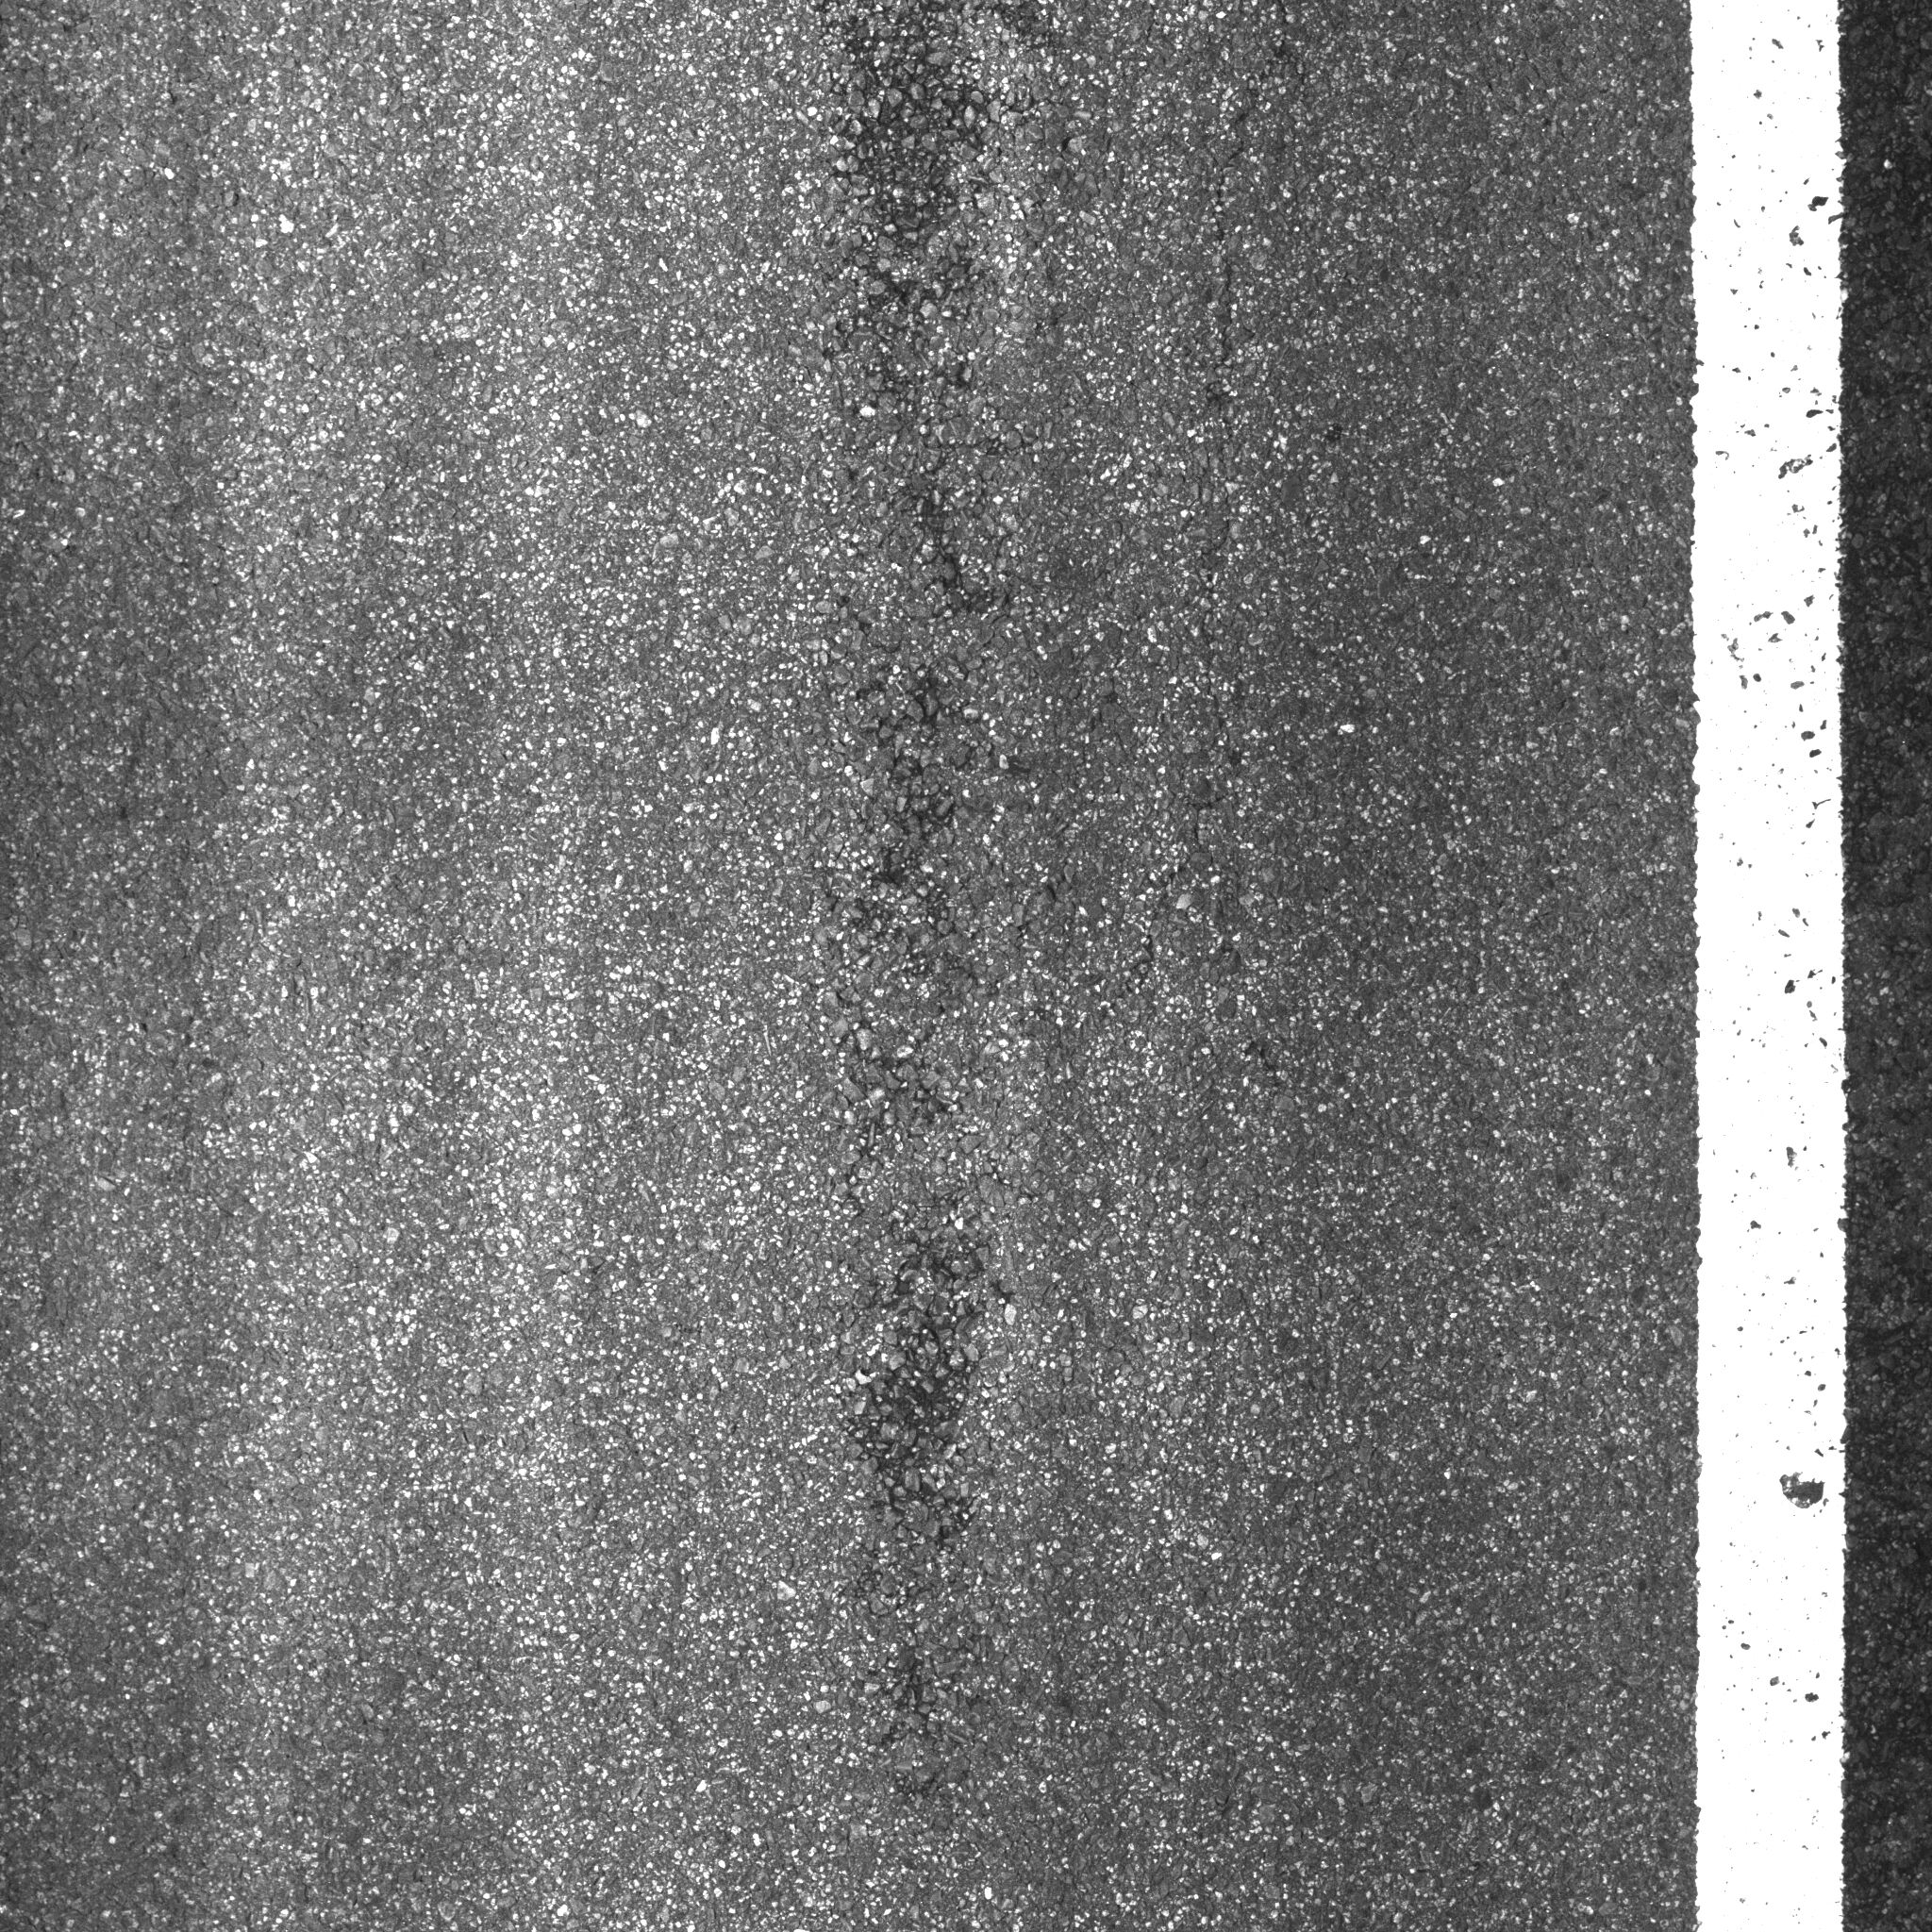longitudinal: (801, 12, 1007, 1755), (1129, 133, 1279, 1010)
